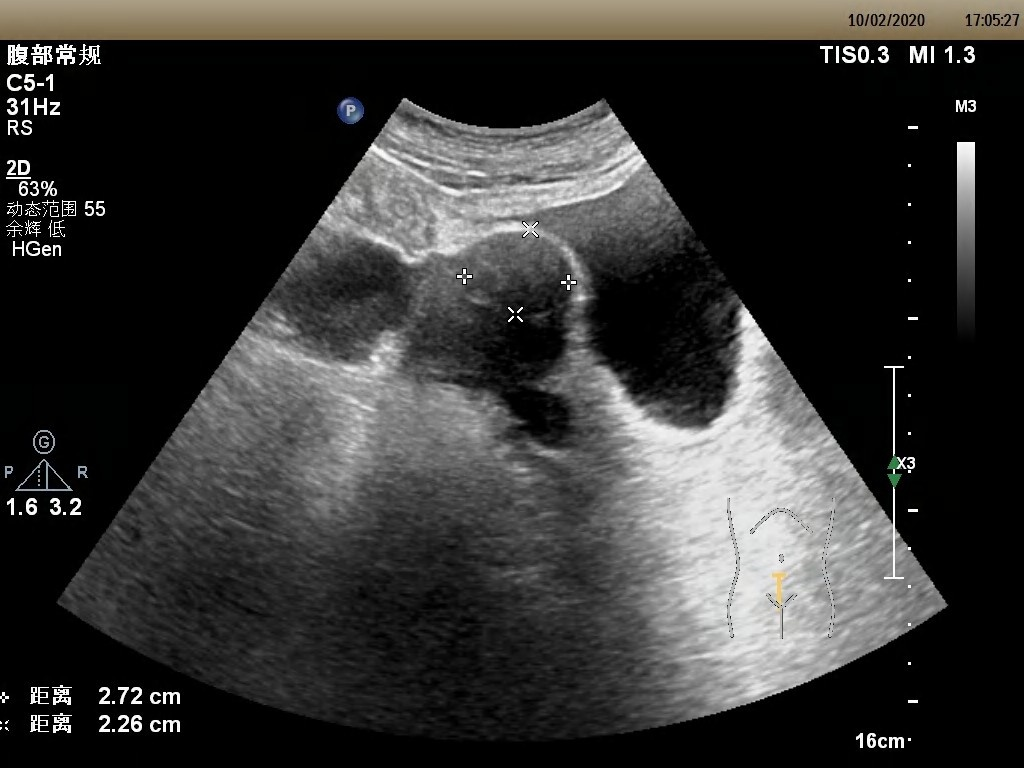肌瘤: (463, 229, 569, 316)
